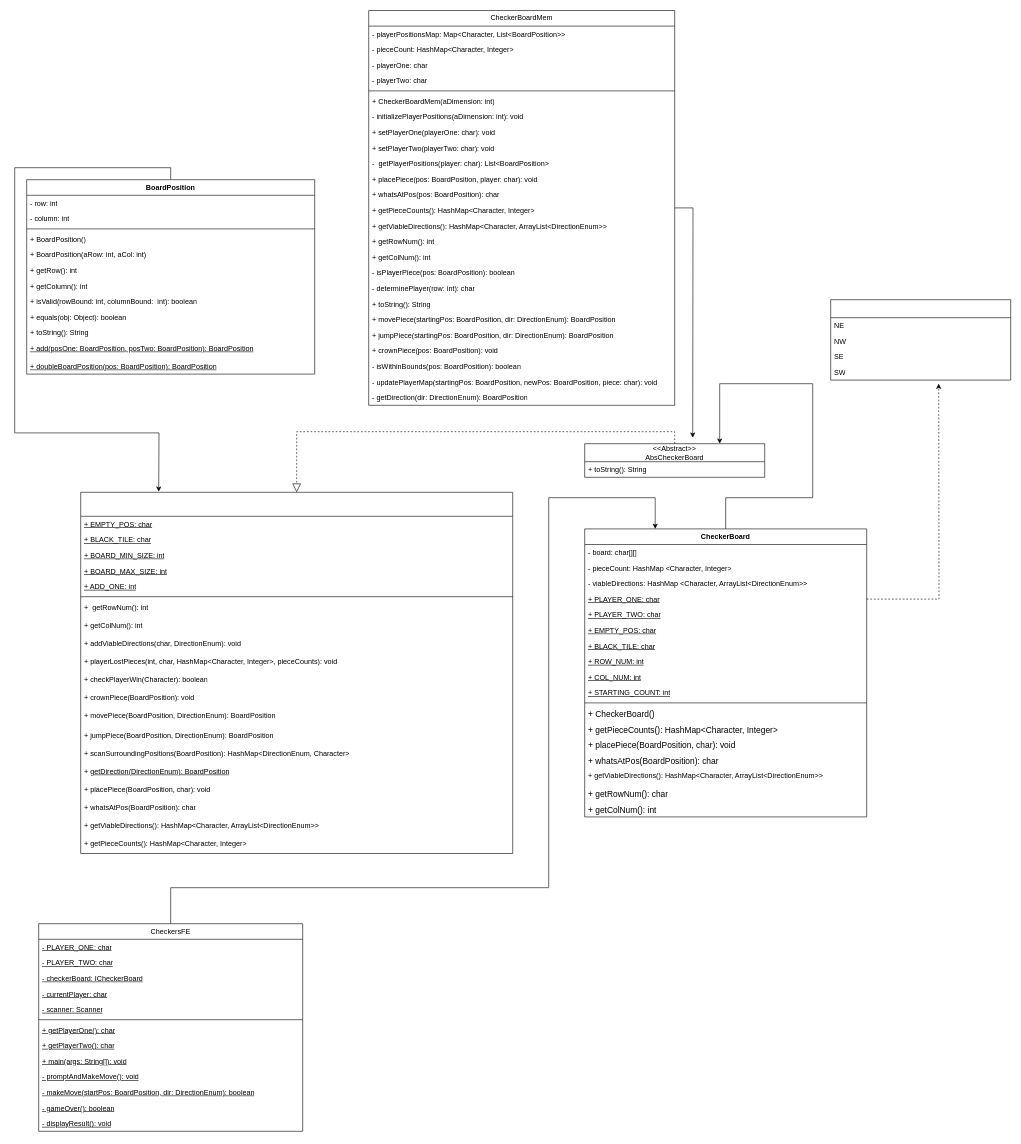
The diagram is 1021 pixels wide and 1144 high, and some of its shapes have lost their labels. Here are the shapes that lost their labels. From the top down, the box of each, then its label:
(830, 299, 1011, 380): <<Enumeration>> DirectionEnum
(80, 492, 513, 854): <<Interface>> ICheckerBoard
